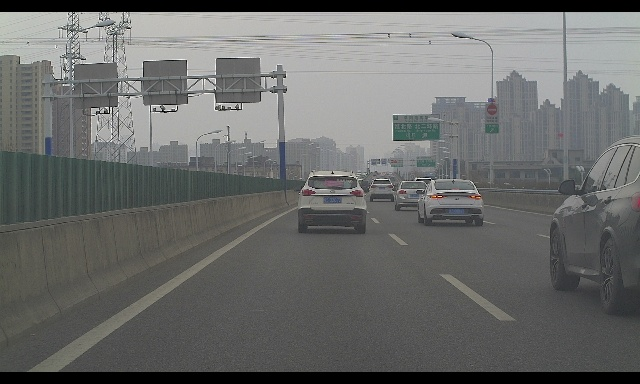car: (549, 135, 640, 314), (293, 169, 369, 234), (416, 179, 485, 226), (392, 181, 428, 210), (367, 178, 396, 202)
